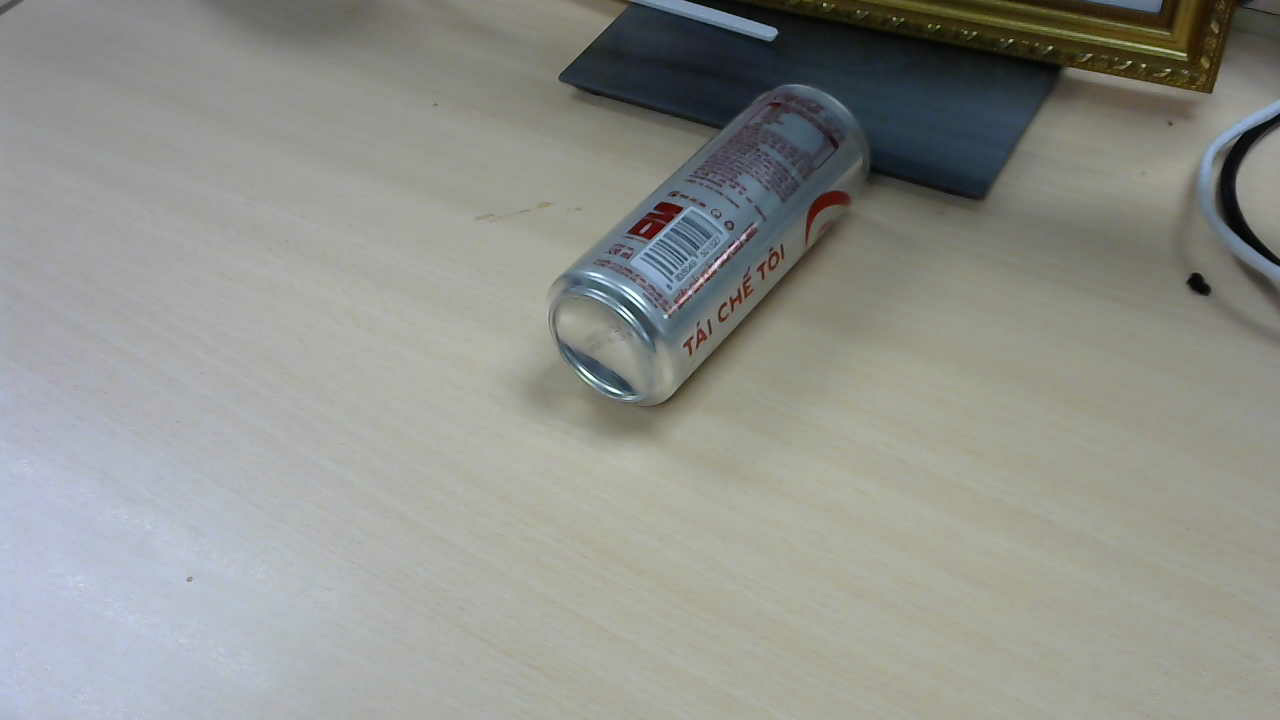Coca_Cola: (547, 87, 881, 410)
